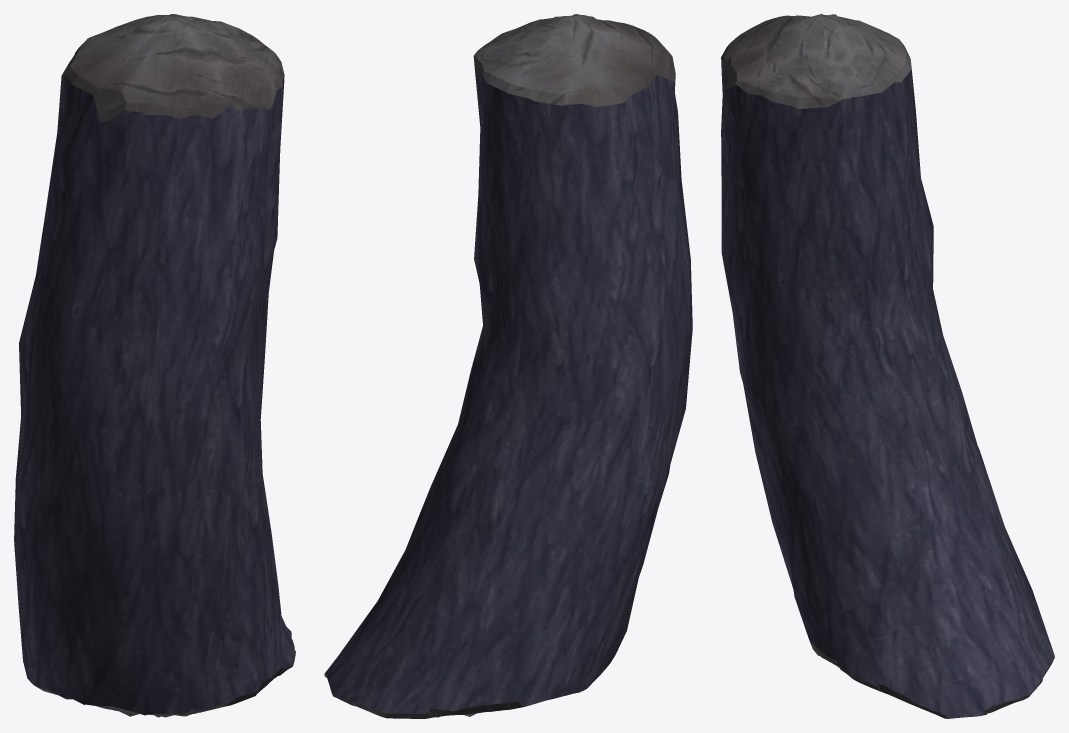
3 renders of one model, left to right at view 1: azimuth 30°, elevation 25°; view 2: azimuth 150°, elevation 25°; view 3: azimuth 270°, elevation 25°, orthographic. The views are drawn at different scales.
Visible parts, largest first — view 1: SM_Willow_03_quarter_01_LOD0; view 2: SM_Willow_03_quarter_01_LOD0; view 3: SM_Willow_03_quarter_01_LOD0.
Boxes of the visible parts, <box> form: SM_Willow_03_quarter_01_LOD0: <box>14,14,295,717</box>; SM_Willow_03_quarter_01_LOD0: <box>324,14,692,718</box>; SM_Willow_03_quarter_01_LOD0: <box>721,14,1054,718</box>.
Bounding box in the file's own units: 1.21 × 2.73 × 1.27.
1 material, 1 textured.
